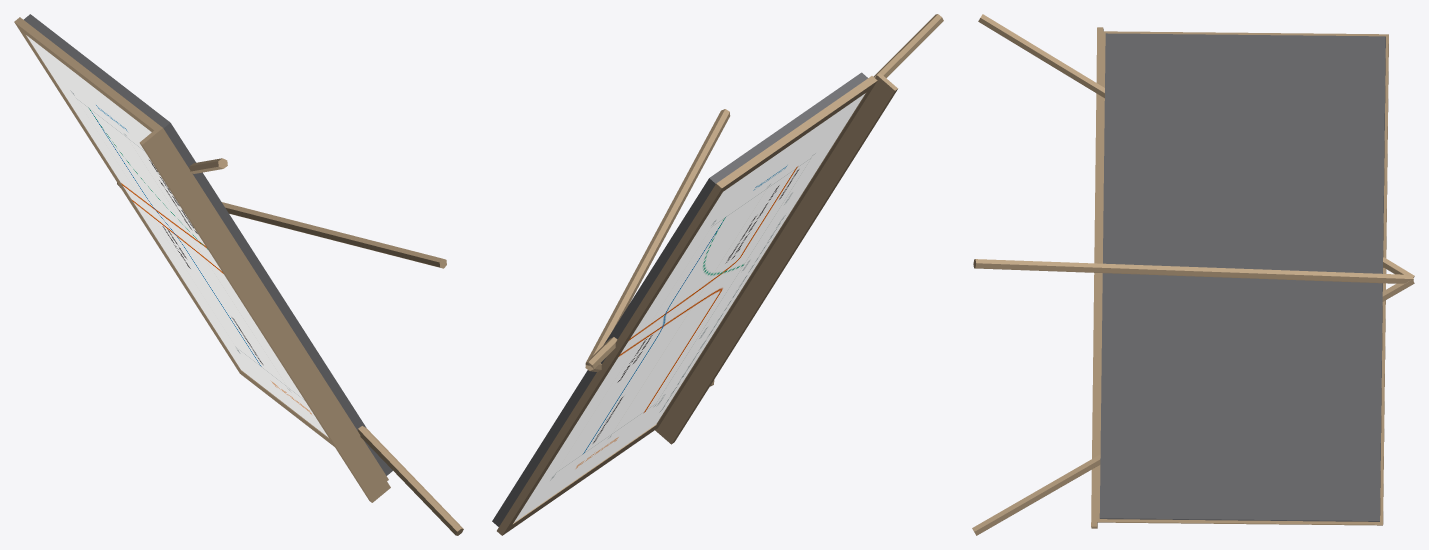
Rendered from museum_room_7.glb.
3 views of the same model, side by side, from view 1: azimuth 30°, elevation 25°; view 2: azimuth 150°, elevation 25°; view 3: azimuth 270°, elevation 25° (orthographic). The views are drawn at different scales.
Visible parts, largest first — view 1: Staffelei r7_open_curve, Platzhalter r7_open_curve, Träger r7_open_curve; view 2: Platzhalter r7_open_curve, Staffelei r7_open_curve, Träger r7_open_curve; view 3: Träger r7_open_curve, Staffelei r7_open_curve.
Part boxes in pixels (<box>): Staffelei r7_open_curve: <box>14,17,463,535</box>; Platzhalter r7_open_curve: <box>26,35,328,437</box>; Träger r7_open_curve: <box>23,14,392,475</box>; Platzhalter r7_open_curve: <box>514,93,865,522</box>; Staffelei r7_open_curve: <box>497,14,943,535</box>; Träger r7_open_curve: <box>492,72,867,526</box>; Träger r7_open_curve: <box>1099,33,1385,521</box>; Staffelei r7_open_curve: <box>972,14,1414,535</box>.
Size of the model in its own units: 1.94 by 3.13 by 3.
Materials: 3 (1 with a texture image).
